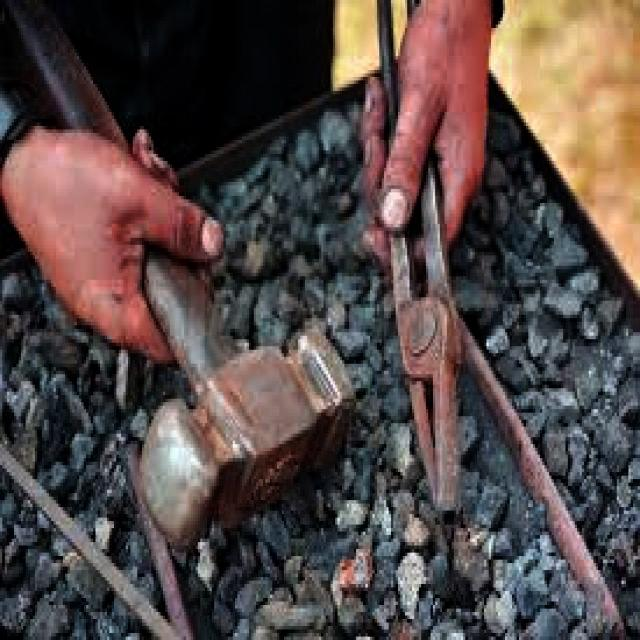hammer: (1, 4, 362, 556)
